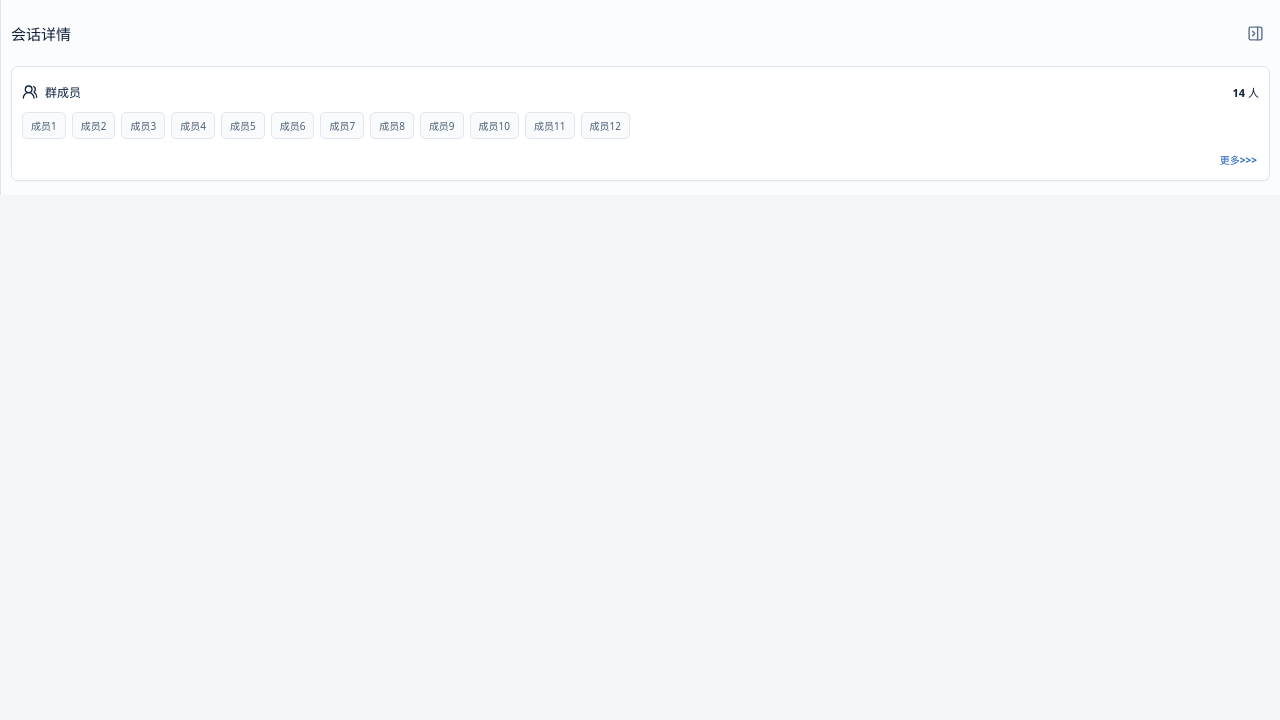
Test case: group detail metadata › opens the complete member list when the group has more than twelve members
The width and height of the screenshot is (1280, 720).
Expected: the button "成员13" is not shown
Click the button "更多>>>": (1238, 160) [1218, 149, 1259, 170]
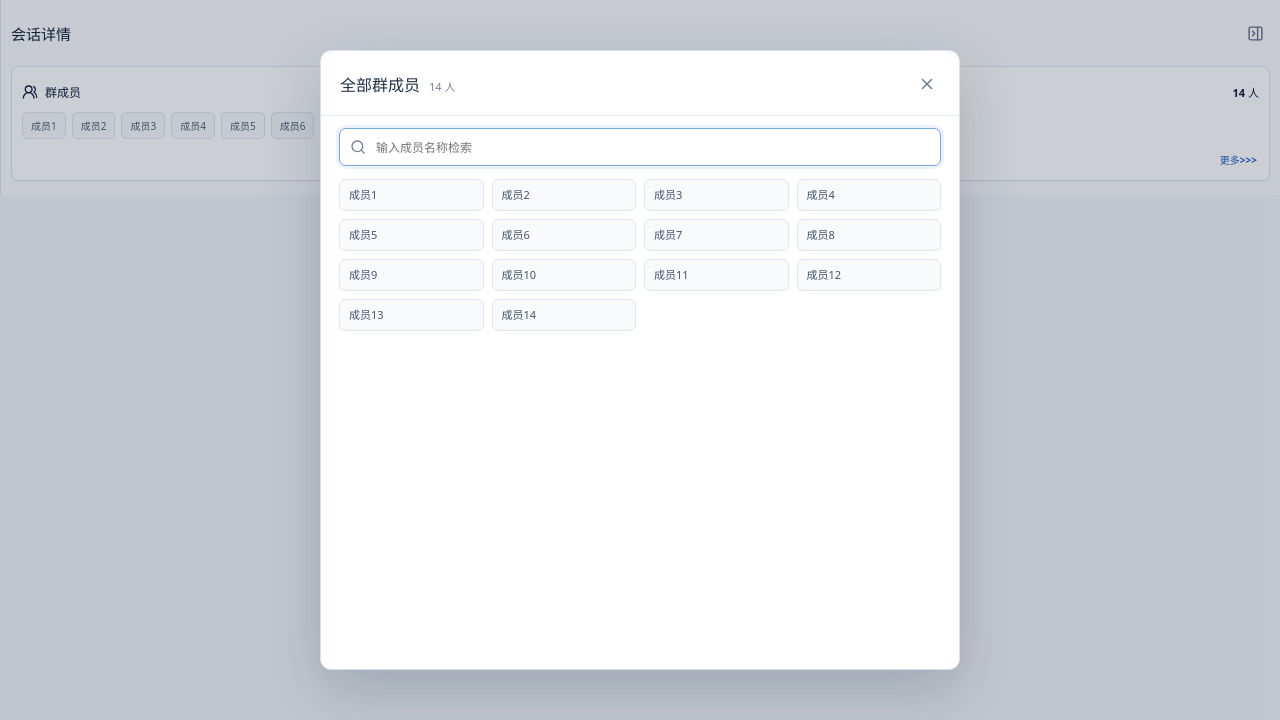
Expected: the dialog "全部群成员" is shown, [320, 50, 960, 670]
Expected: the button "成员13" is shown, [339, 299, 484, 331]
Expected: the button "成员14" is shown, [492, 299, 636, 331]
In the field named "检索群成员": (652, 147) [374, 138, 930, 156], type "成员14"
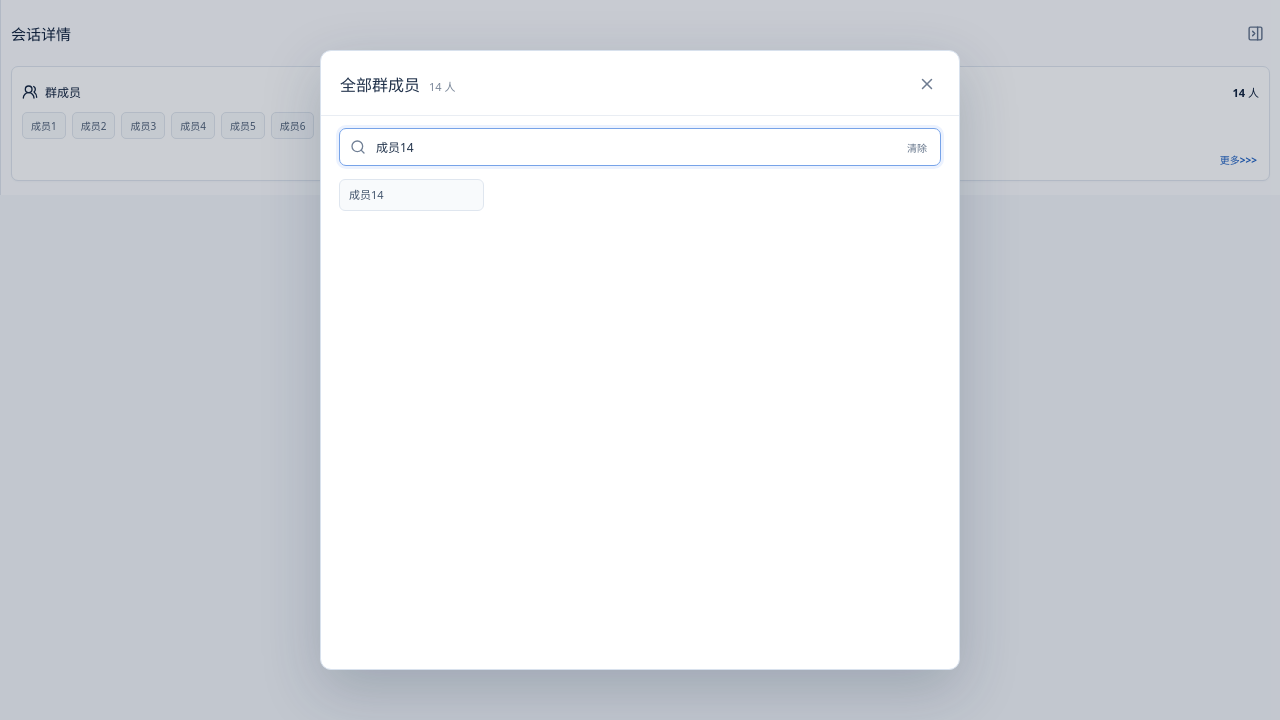
Expected: the button "成员13" is gone
Click the button "成员14": (411, 195) [339, 179, 484, 211]
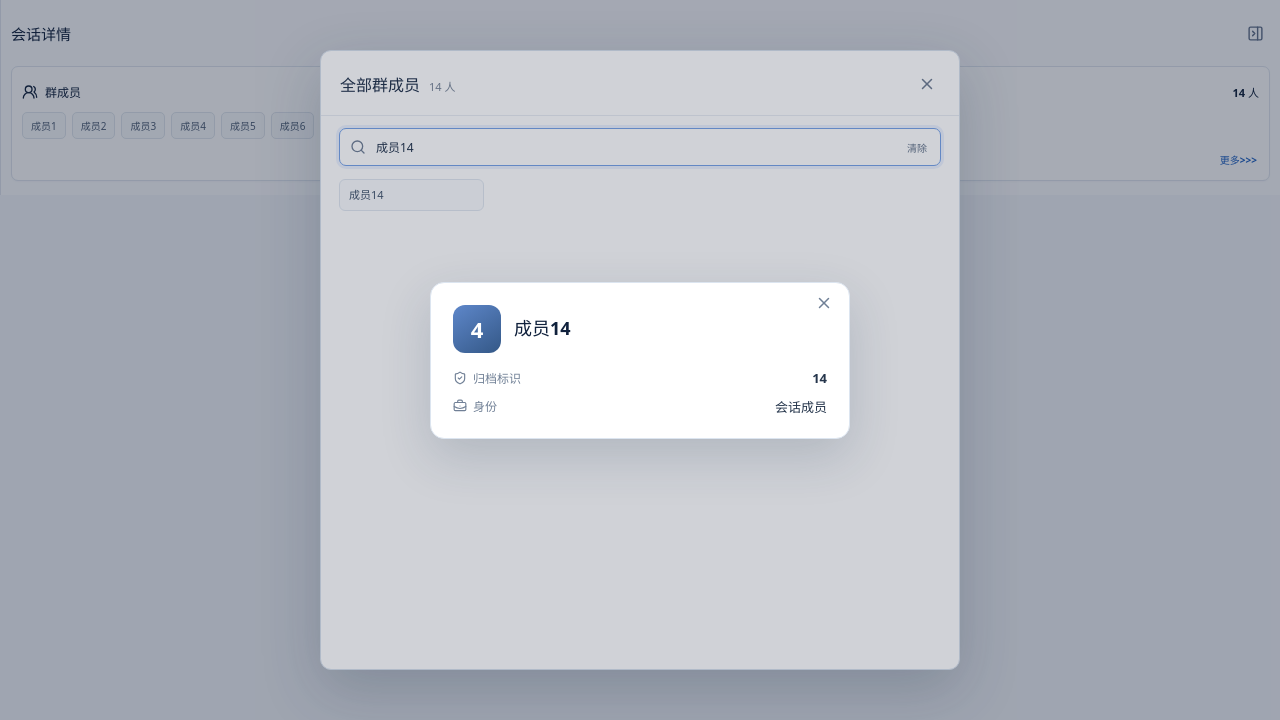
Expected: the dialog "全部群成员" is shown, [320, 50, 960, 670]
Expected: the dialog "成员14" is shown, [430, 282, 850, 438]
